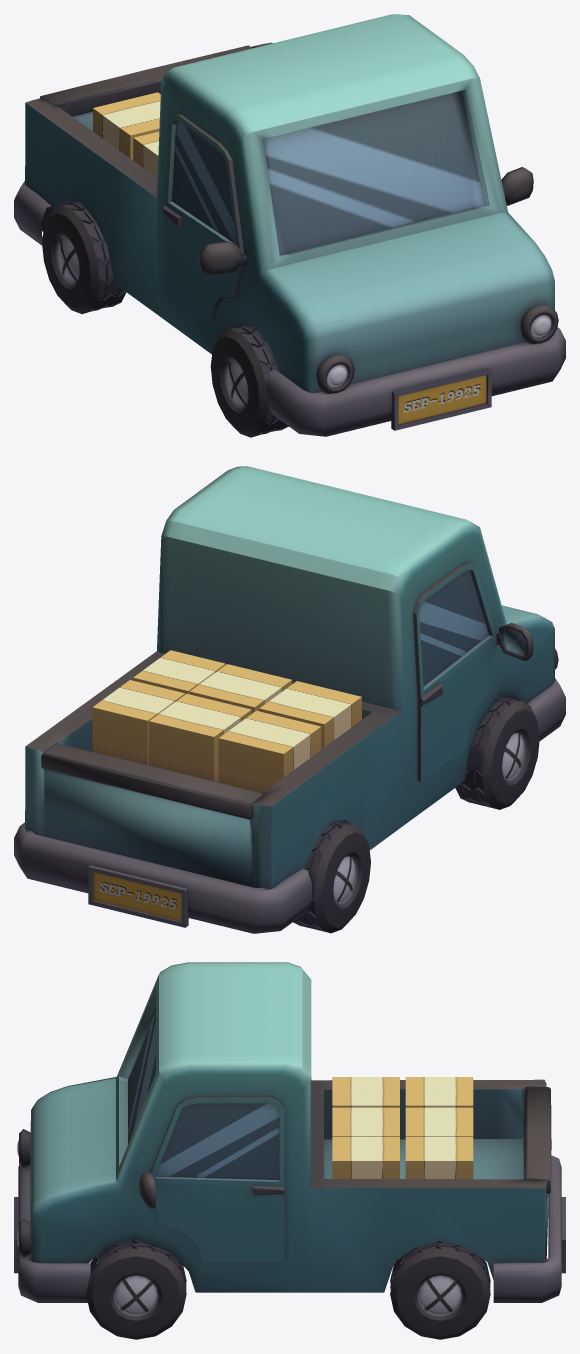
The model's file is Car.fbx.
3 renders of one model, top to bottom at view 1: azimuth 30°, elevation 25°; view 2: azimuth 150°, elevation 25°; view 3: azimuth 270°, elevation 25°, orthographic. The views are drawn at different scales.
Visible parts, largest first — view 1: Car.002; view 2: Car.002; view 3: Car.002.
Boxes of the visible parts, x1,y1,x2,y2 form: Car.002: (14,14,565,437); Car.002: (14,466,565,933); Car.002: (14,962,565,1339).
Size of the model in its own units: 292 by 250 by 466.
Materials: 3 (3 with a texture image).
